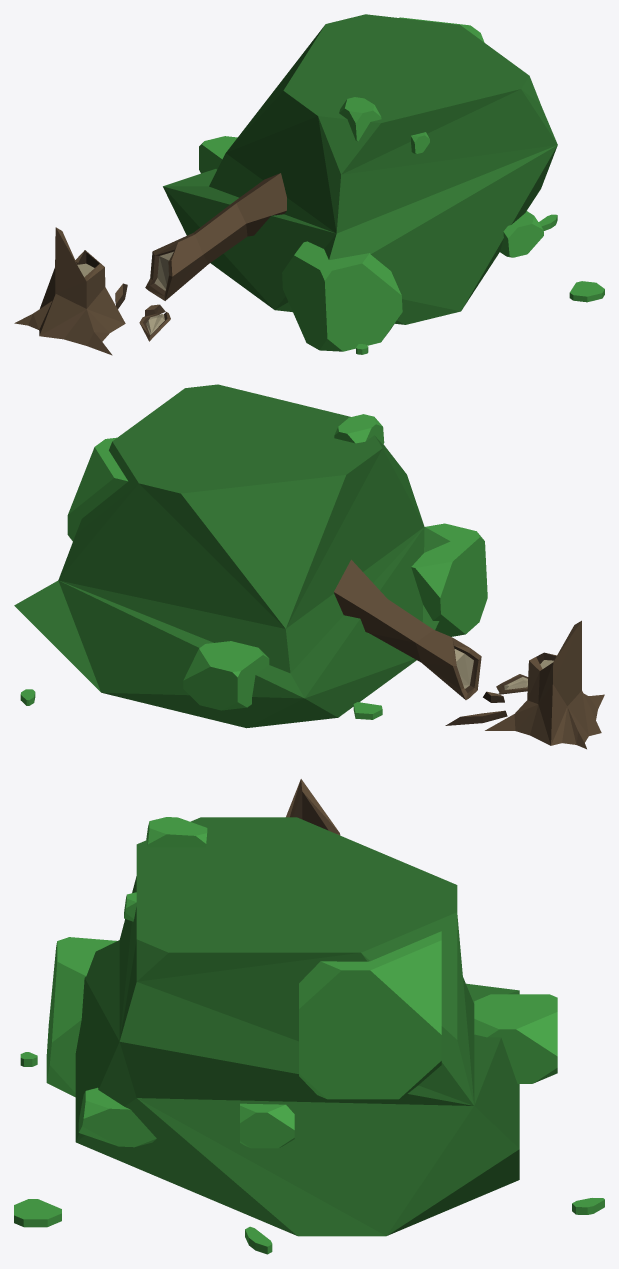
The model's file is Tree_E_04.FBX.
3 views of the same model, one above another, from view 1: azimuth 30°, elevation 25°; view 2: azimuth 150°, elevation 25°; view 3: azimuth 270°, elevation 25° (orthographic). The views are drawn at different scales.
Visible parts, largest first — view 1: Tree_E_04; view 2: Tree_E_04; view 3: Tree_E_04.
Boxes of the visible parts, x1,y1,x2,y2 form: Tree_E_04: (14,14,604,355); Tree_E_04: (14,384,604,749); Tree_E_04: (14,779,604,1254).
Size of the model in its own units: 4.79 by 1.83 by 3.44.
